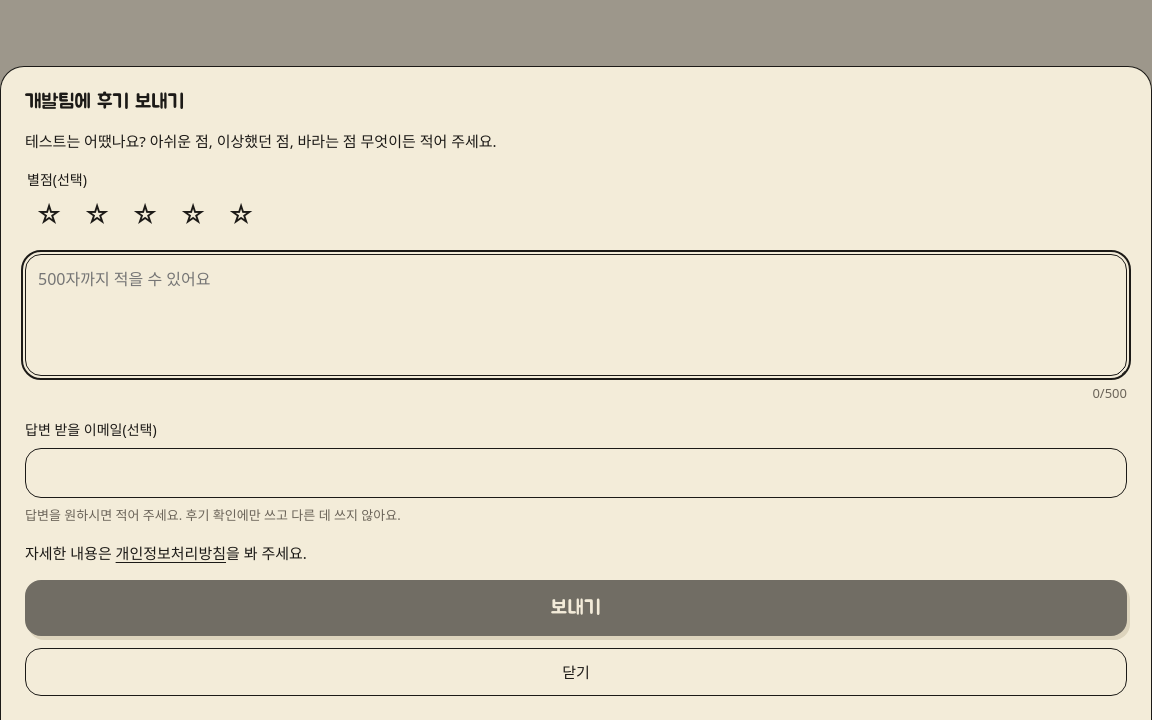
FeedbackSheet — 보내기 › 보내는 동안 버튼이 죽고 문구가 바뀐다
The image size is (1152, 720).
Type "좋아요" into the text box labelled "테스트는 어땠나요? 아쉬운 점, 이상했던 점, 바라는 점 무엇이든 적어 주세요." at [576, 314], box [25,254,1127,376]
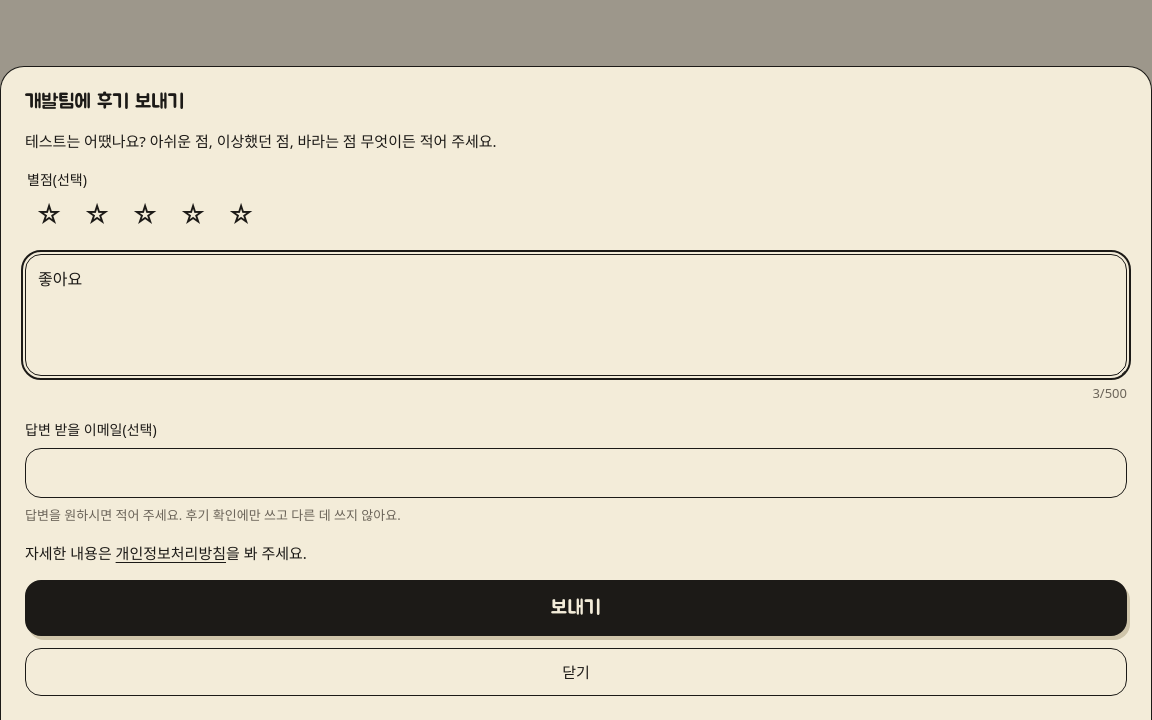
Click the button "보내기" at [576, 608], box [25,580,1127,636]
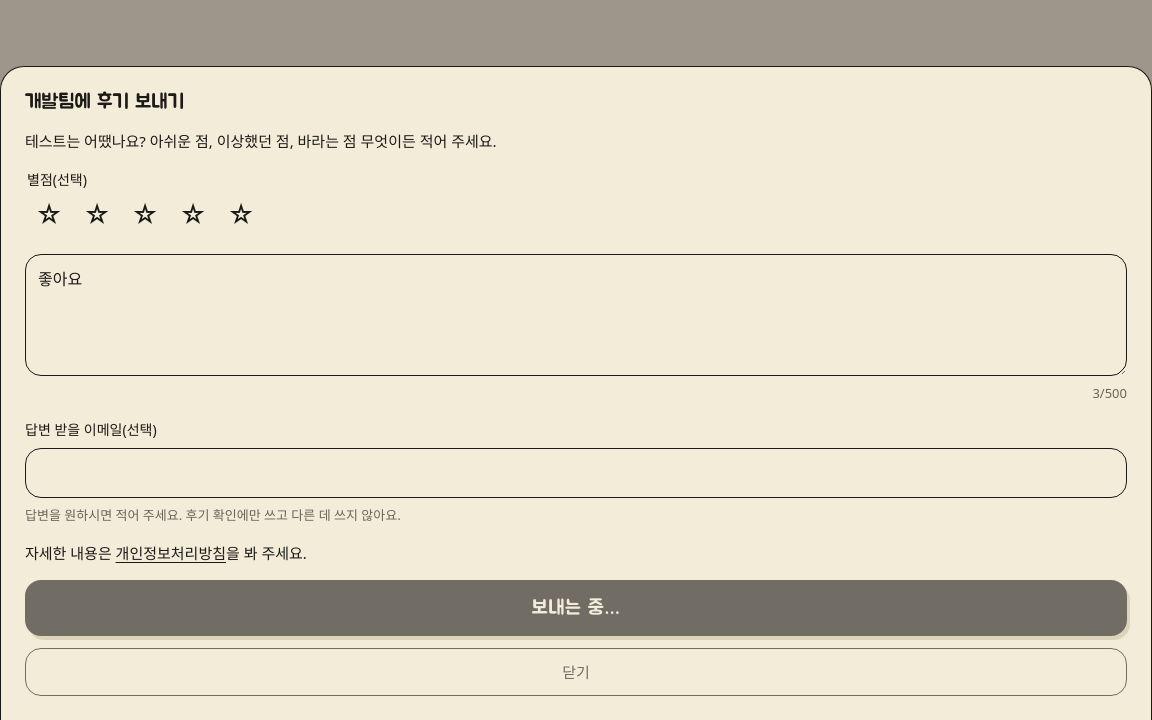
Expected: the button "보내는 중…" is disabled, [25,580,1127,636]
Expected: the button "닫기" is disabled, [25,648,1127,696]
